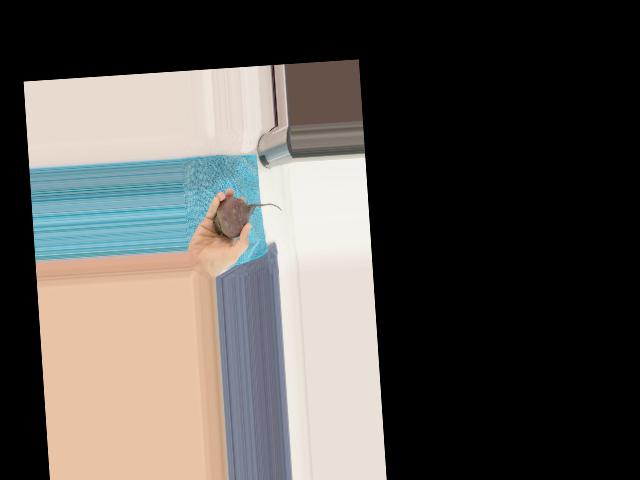beet: (210, 192, 283, 239)
